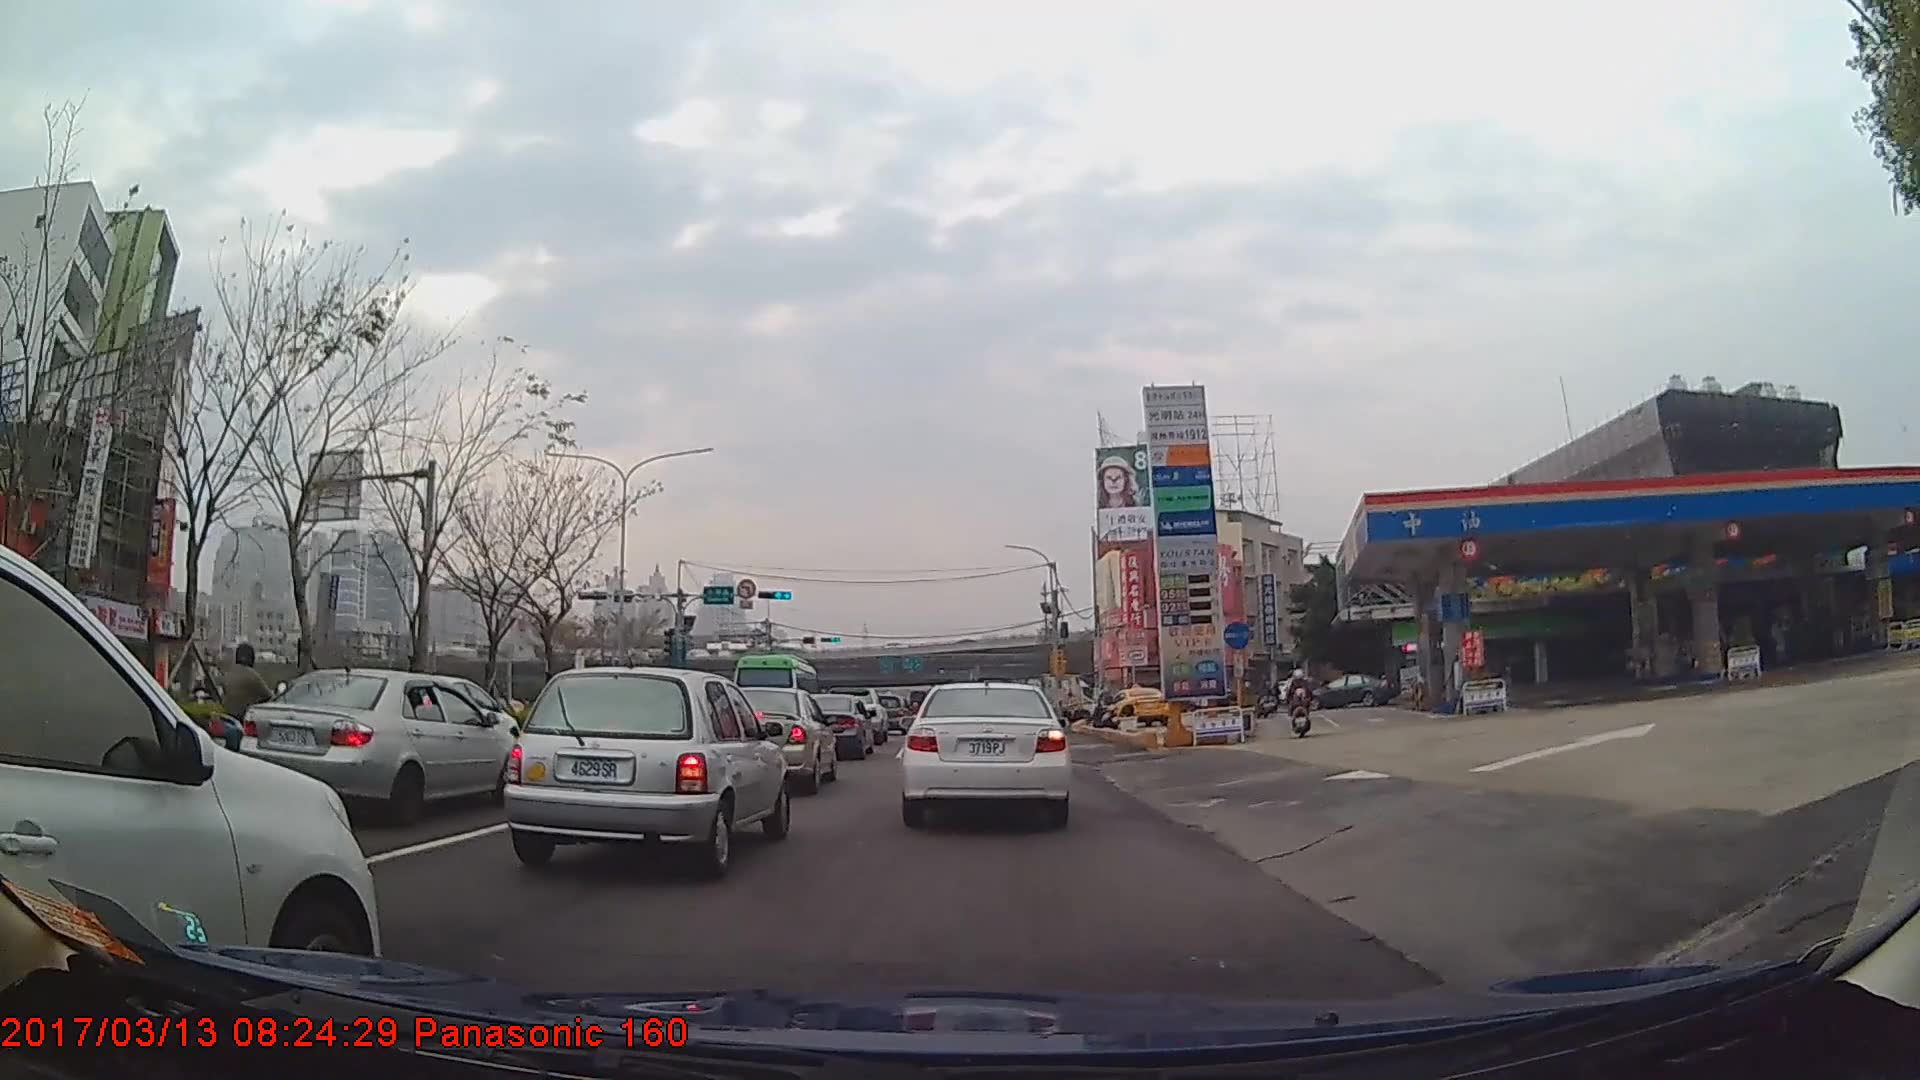rider: (210, 641, 287, 779), (1287, 670, 1313, 737)
vehicle: (0, 541, 379, 1009), (500, 664, 790, 878), (238, 670, 519, 821), (900, 679, 1073, 828), (706, 684, 838, 798), (729, 652, 822, 726), (794, 692, 875, 759), (1009, 682, 1097, 733), (1300, 671, 1397, 709), (1110, 685, 1168, 725)
